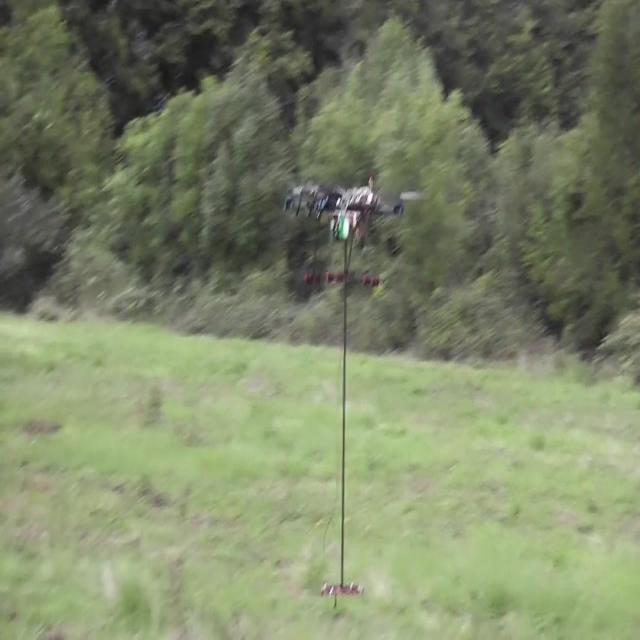UAV: (284, 176, 428, 288)
